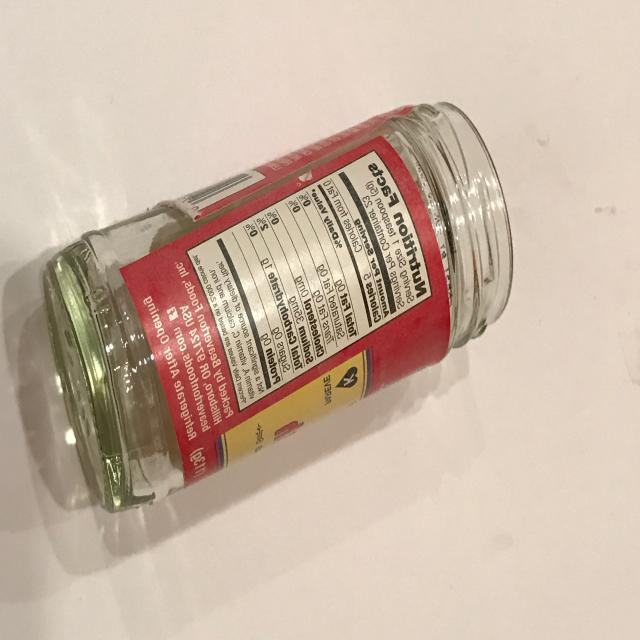glass: (42, 99, 514, 514)
